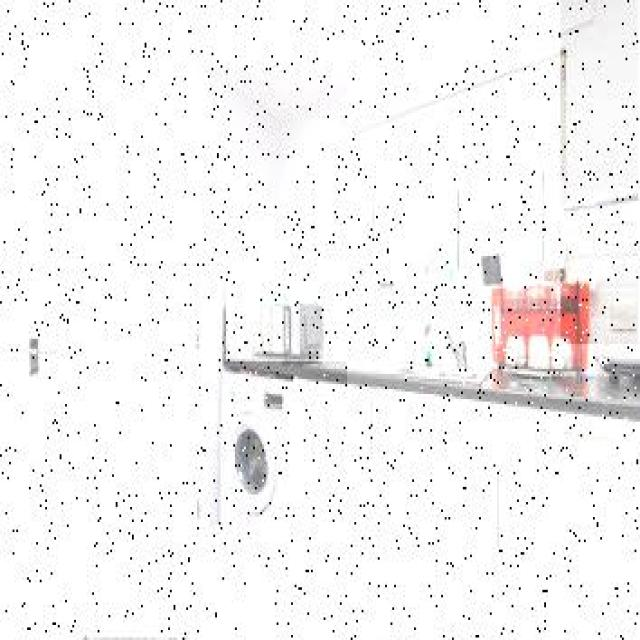Wall: (33, 0, 347, 527), (133, 2, 519, 118), (88, 546, 461, 637), (562, 0, 640, 344), (226, 244, 425, 361), (470, 297, 488, 364)
